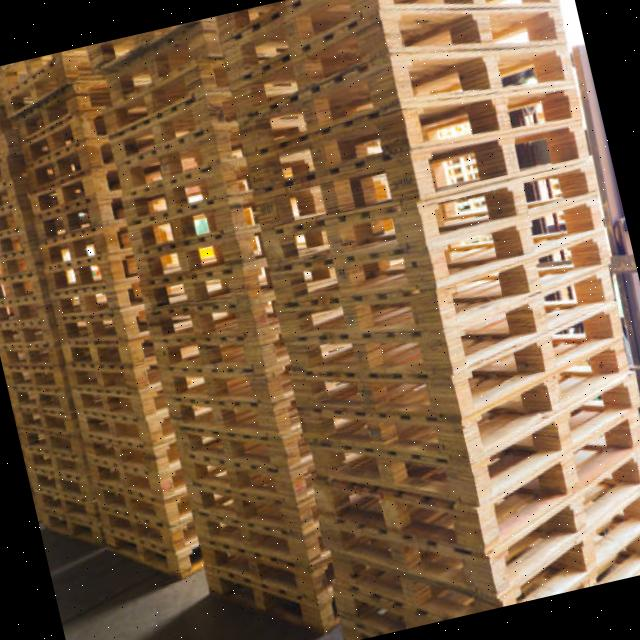Wooden-Pallets: (323, 449, 640, 608), (240, 48, 582, 159), (255, 144, 422, 227), (295, 405, 470, 471), (269, 288, 447, 345), (175, 436, 299, 508), (140, 293, 264, 339)
